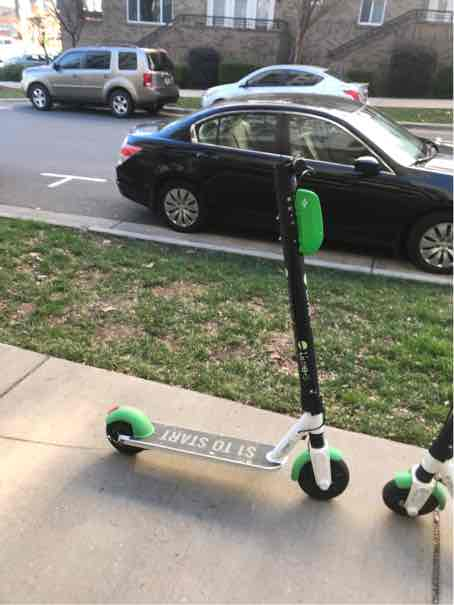scooter: (90, 138, 354, 518)
